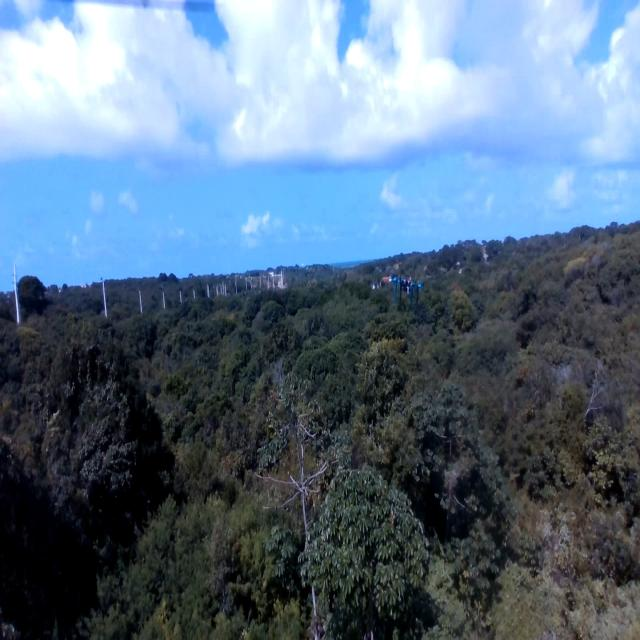-uav-: (387, 261, 428, 326)
